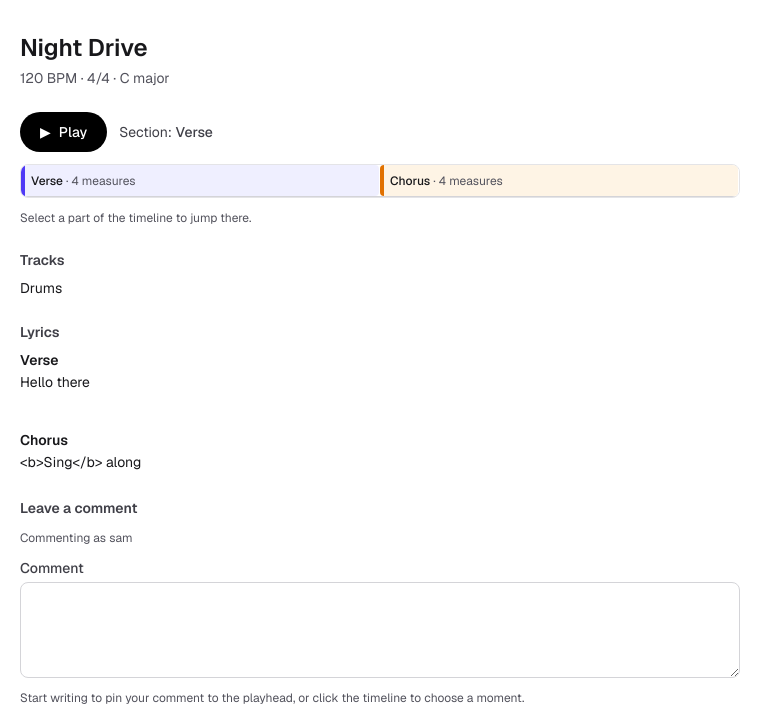
Test: Comments › shows the server's reason when a comment is refused
Expected: the heading "Night Drive" is shown, [20, 32, 148, 63]
Expected: the text "Commenting as sam" is shown, [20, 530, 132, 546]
Type "hi" into the text box labelled "Comment" at (380, 630), box [20, 582, 740, 678]
(page scrolled)
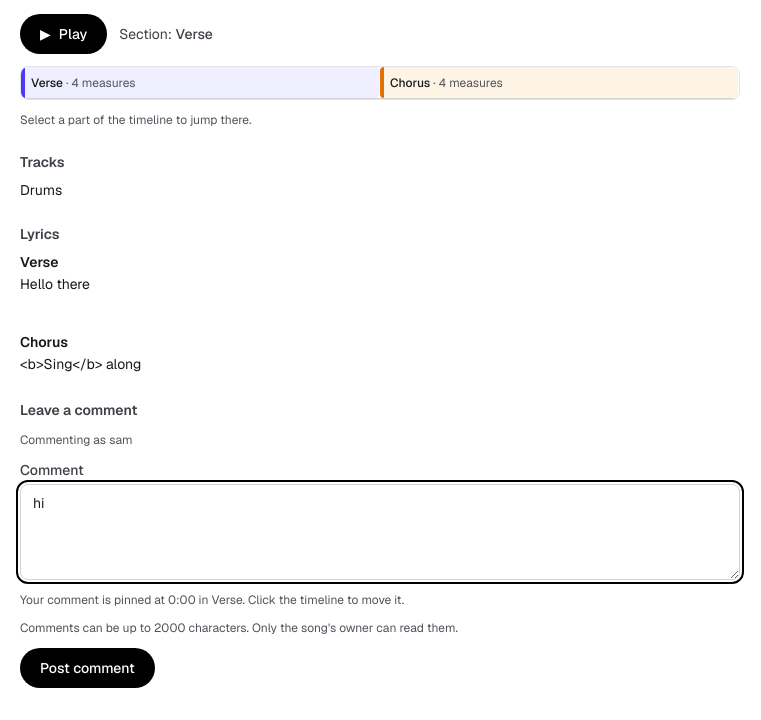
Click the button "Post comment" at (87, 668), box [20, 648, 155, 688]
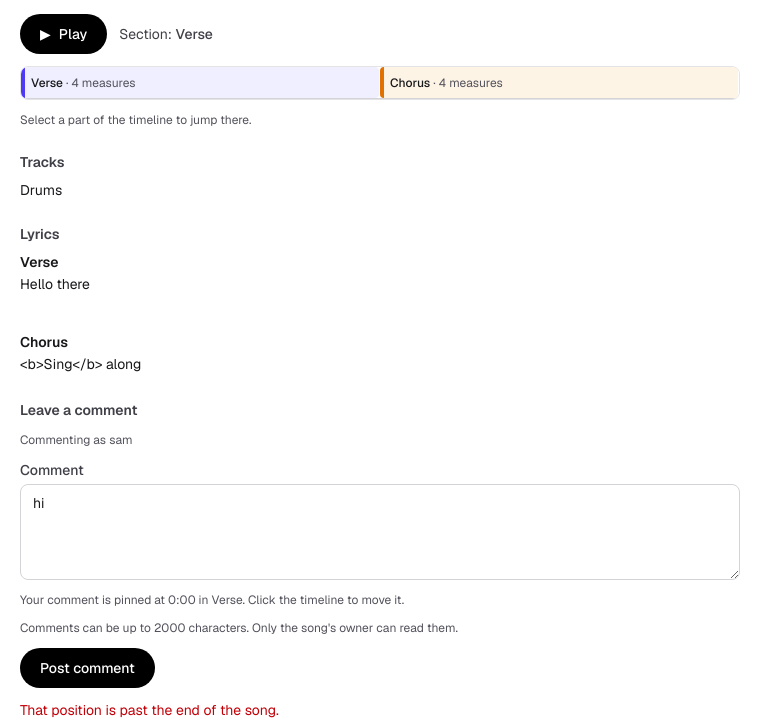
Expected: the message reads "That position is past the end of the song.", [20, 701, 279, 719]
